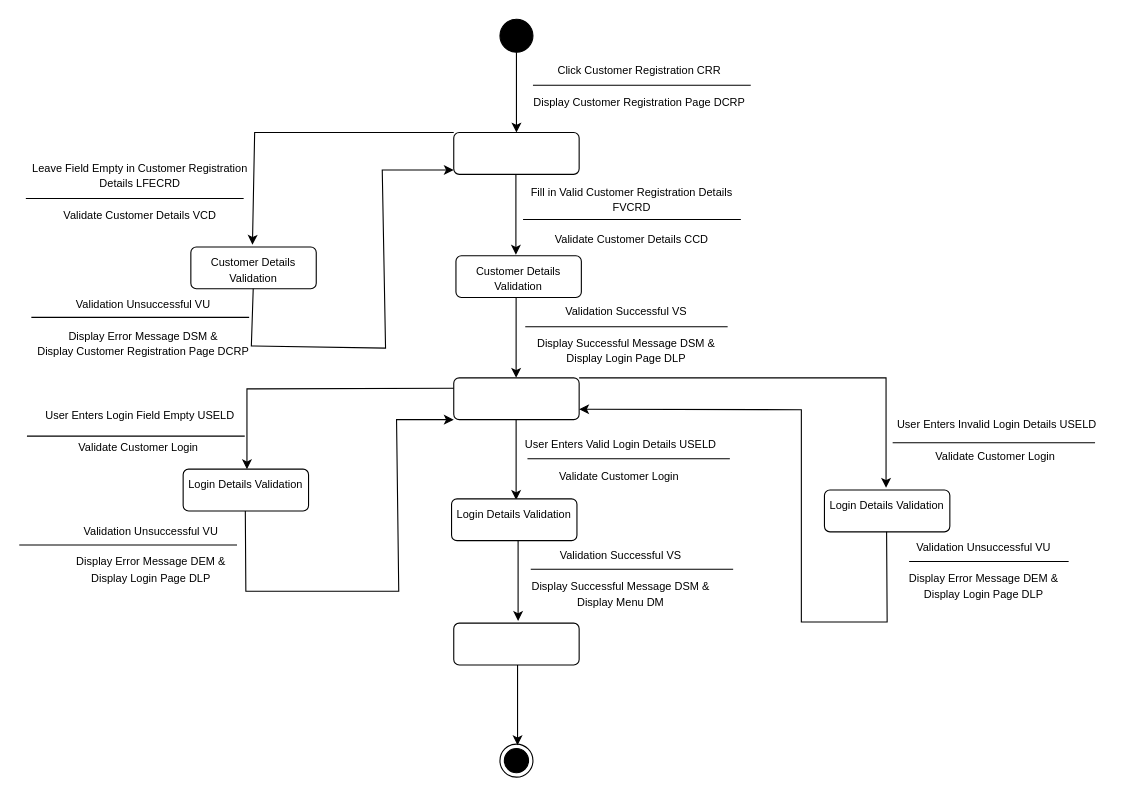
The diagram is 1125 pixels wide and 796 high, and some of its shapes have lost their labels. The shapes that lost their labels are listed below. From the top down, each one's centre as x and y in pixels, then its label:
(x=516, y=152): Display Customer Registration Page
(x=516, y=398): Display Login Page
(x=516, y=643): Display Menu
